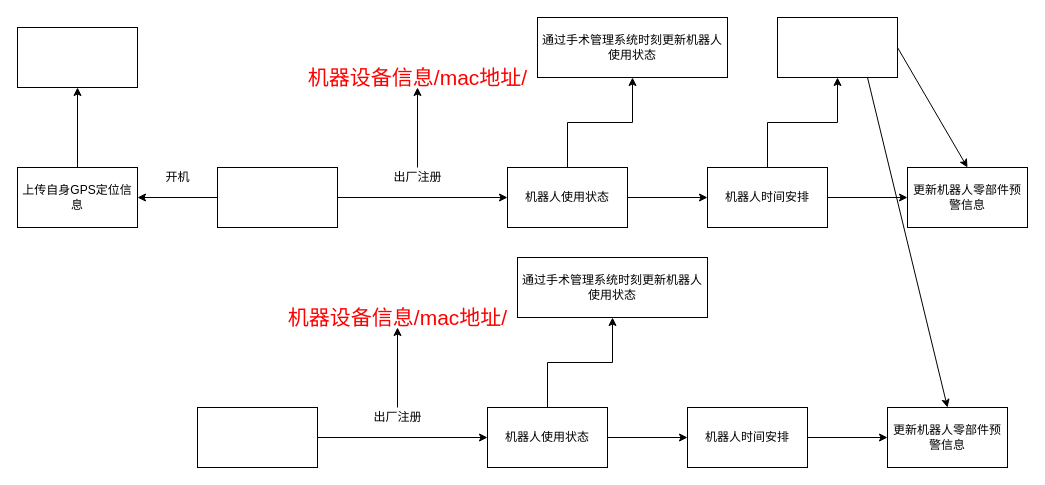
Some shapes in this 1045 by 485 pixel diagram are drawn without their labels. Here are the shapes that lost their labels. From the top down, the centre of each, then its label:
At [77,57]: "定位管理系统".
At [837,47]: "手术结束/更新机器人状态信息".
At [277,197]: "主端设备".
At [257,437]: "从端设备".
